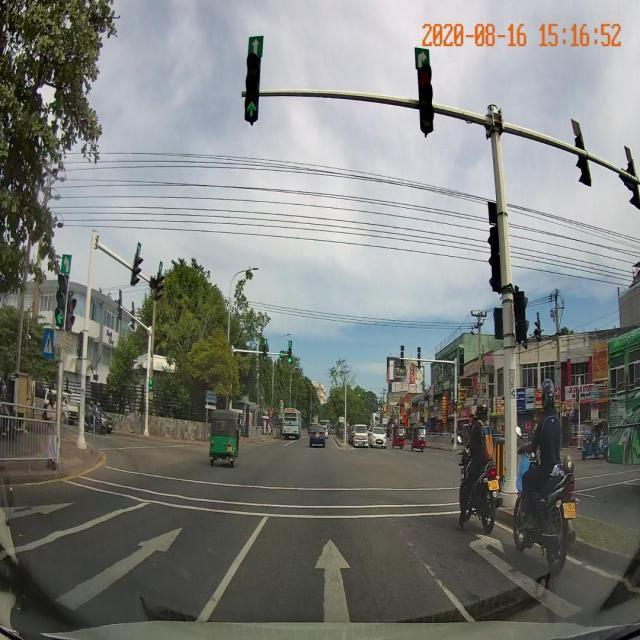Liniya 1: (387, 517, 480, 623), (193, 516, 275, 623), (9, 503, 153, 556), (566, 553, 640, 596), (100, 444, 194, 450), (495, 520, 513, 537)
Liniya 2: (65, 479, 461, 525), (75, 474, 459, 512), (102, 464, 459, 495), (575, 477, 640, 494), (574, 468, 640, 482)
Strelka vpered: (52, 525, 186, 614), (311, 535, 353, 621)
Strelka vpravo: (463, 532, 588, 621)
